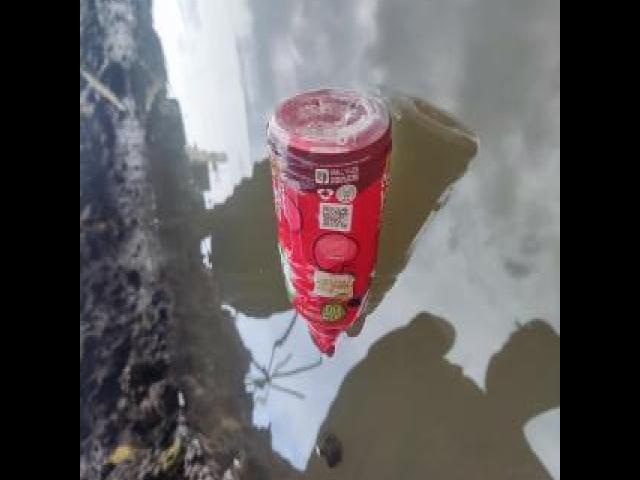Bottle: (257, 76, 401, 360)
